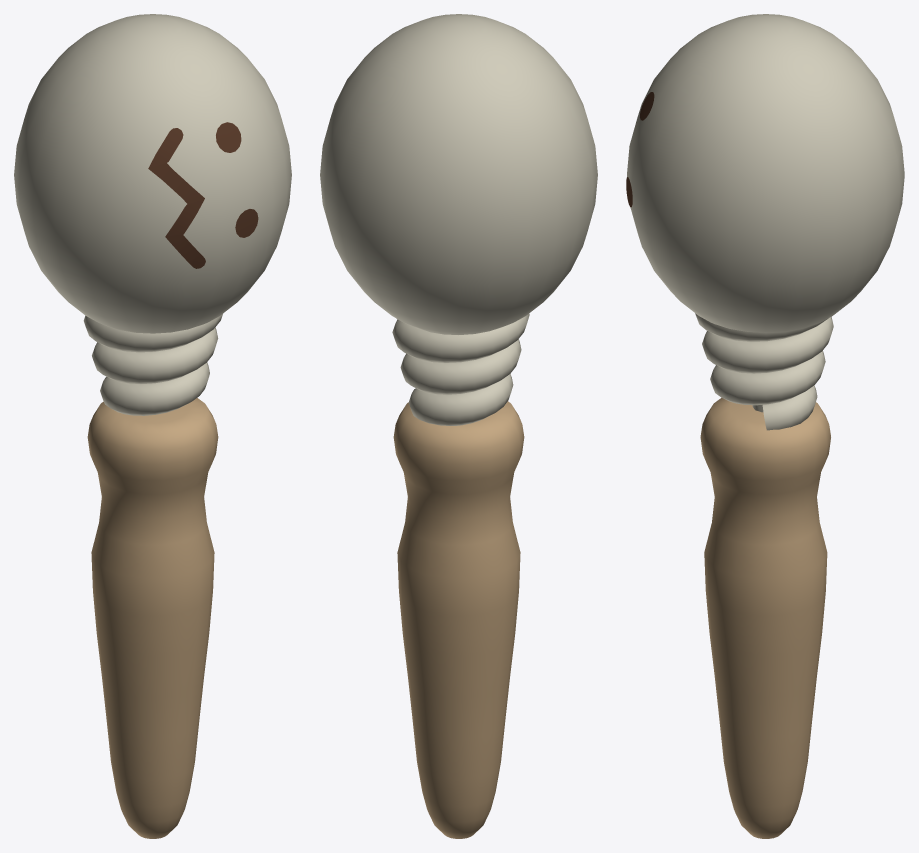
File: item_weapon01.glb
The picture shows the model from 3 angles, left to right: view 1: azimuth 30°, elevation 25°; view 2: azimuth 150°, elevation 25°; view 3: azimuth 270°, elevation 25°; orthographic projection.
Visible parts, largest first — view 1: item_weapon01; view 2: item_weapon01; view 3: item_weapon01.
Part boxes in pixels (x1,y1,x2,y2): item_weapon01: (14, 14, 291, 838); item_weapon01: (320, 14, 597, 838); item_weapon01: (626, 14, 904, 838).
Size of the model in its own units: 0.168 by 0.5427 by 0.1684.
